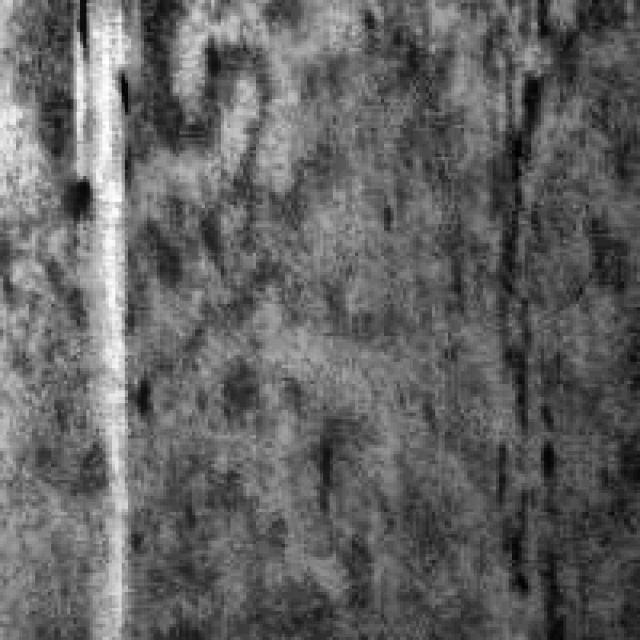Inclusion: (76, 0, 150, 477)
